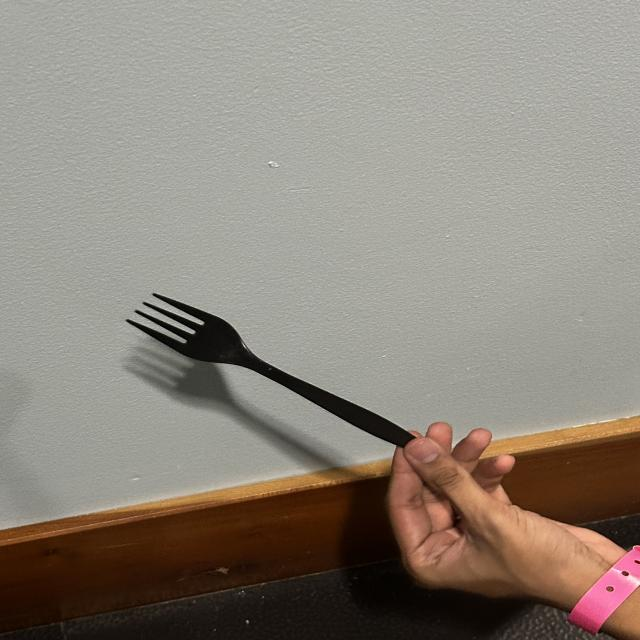fork: (79, 251, 462, 488)
